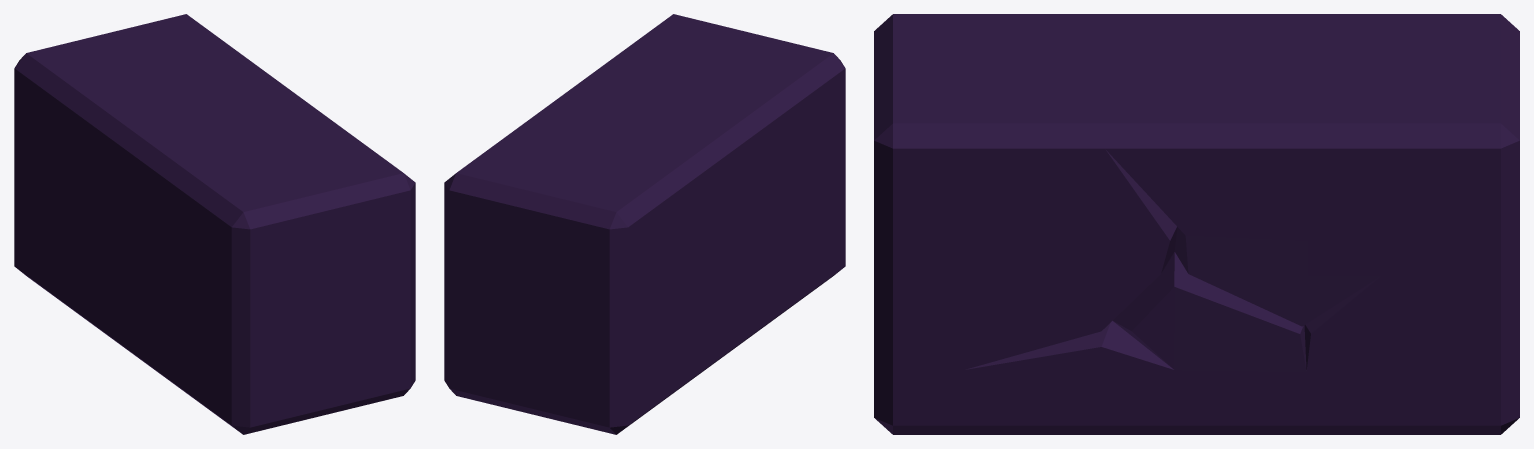
File: brick2.glb
The picture shows the model from 3 angles, left to right: view 1: azimuth 30°, elevation 25°; view 2: azimuth 150°, elevation 25°; view 3: azimuth 270°, elevation 25°; orthographic projection. The views are drawn at different scales.
Parts seen in each view (by area): view 1: BrickCrack2; view 2: BrickCrack2; view 3: BrickCrack2.
Part boxes in pixels (box(x1,y1,x2,y2)): BrickCrack2: box(14, 14, 415, 434); BrickCrack2: box(444, 14, 845, 434); BrickCrack2: box(874, 14, 1519, 434).
Size of the model in its own units: 1.73 by 2 by 3.76.
